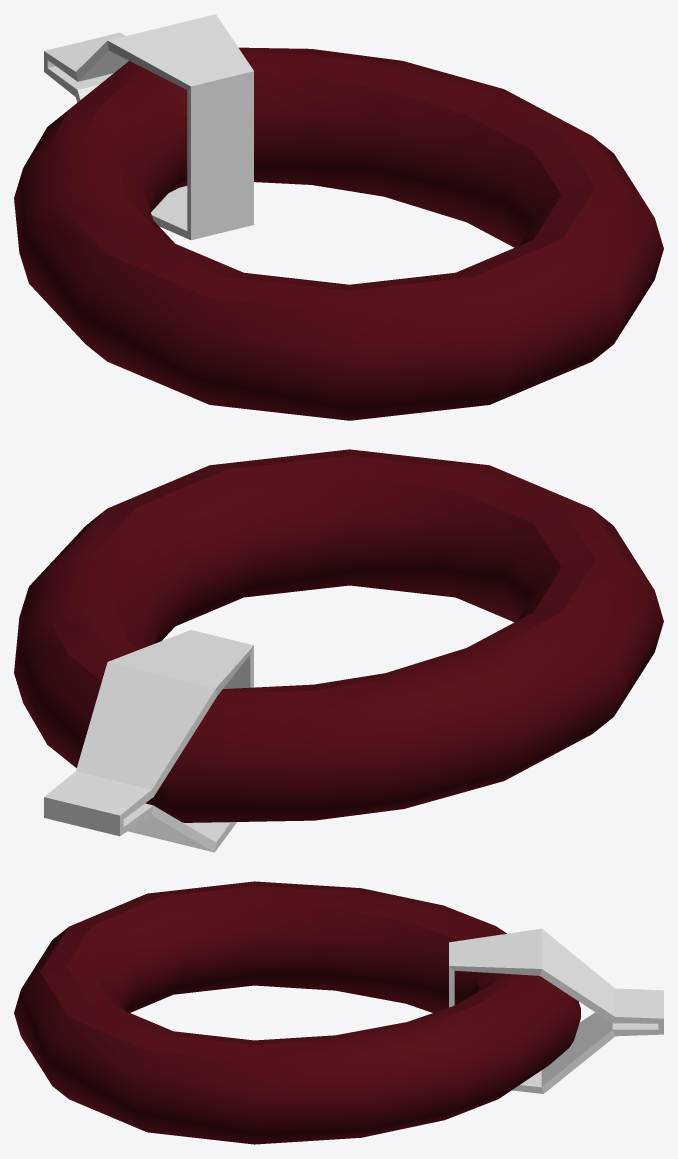
Rendered from Sucuk.fbx.
The picture shows the model from 3 angles, top to bottom: view 1: azimuth 30°, elevation 25°; view 2: azimuth 150°, elevation 25°; view 3: azimuth 270°, elevation 25°; orthographic projection. The views are drawn at different scales.
Parts seen in each view (by area): view 1: Sucuk; view 2: Sucuk; view 3: Sucuk.
Part boxes in pixels (<box>): Sucuk: <box>14,14,663,420</box>; Sucuk: <box>14,449,663,852</box>; Sucuk: <box>14,881,663,1144</box>.
Size of the model in its own units: 0.4288 by 0.123 by 0.5798.
